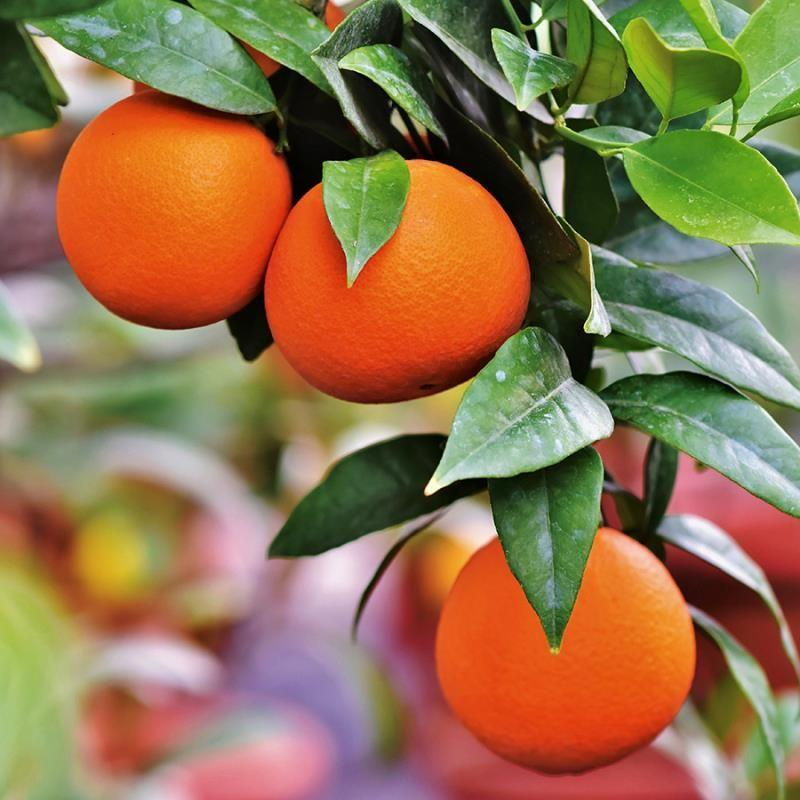Healthy Citrus: (242, 423, 485, 565), (582, 258, 800, 397), (438, 335, 618, 502), (36, 0, 280, 113), (489, 415, 600, 658), (603, 365, 800, 498), (620, 126, 800, 252), (309, 0, 442, 144), (619, 17, 745, 125)
